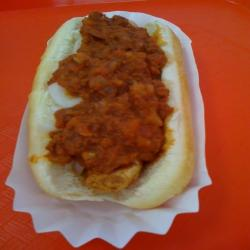hotdog: (22, 15, 211, 215)
